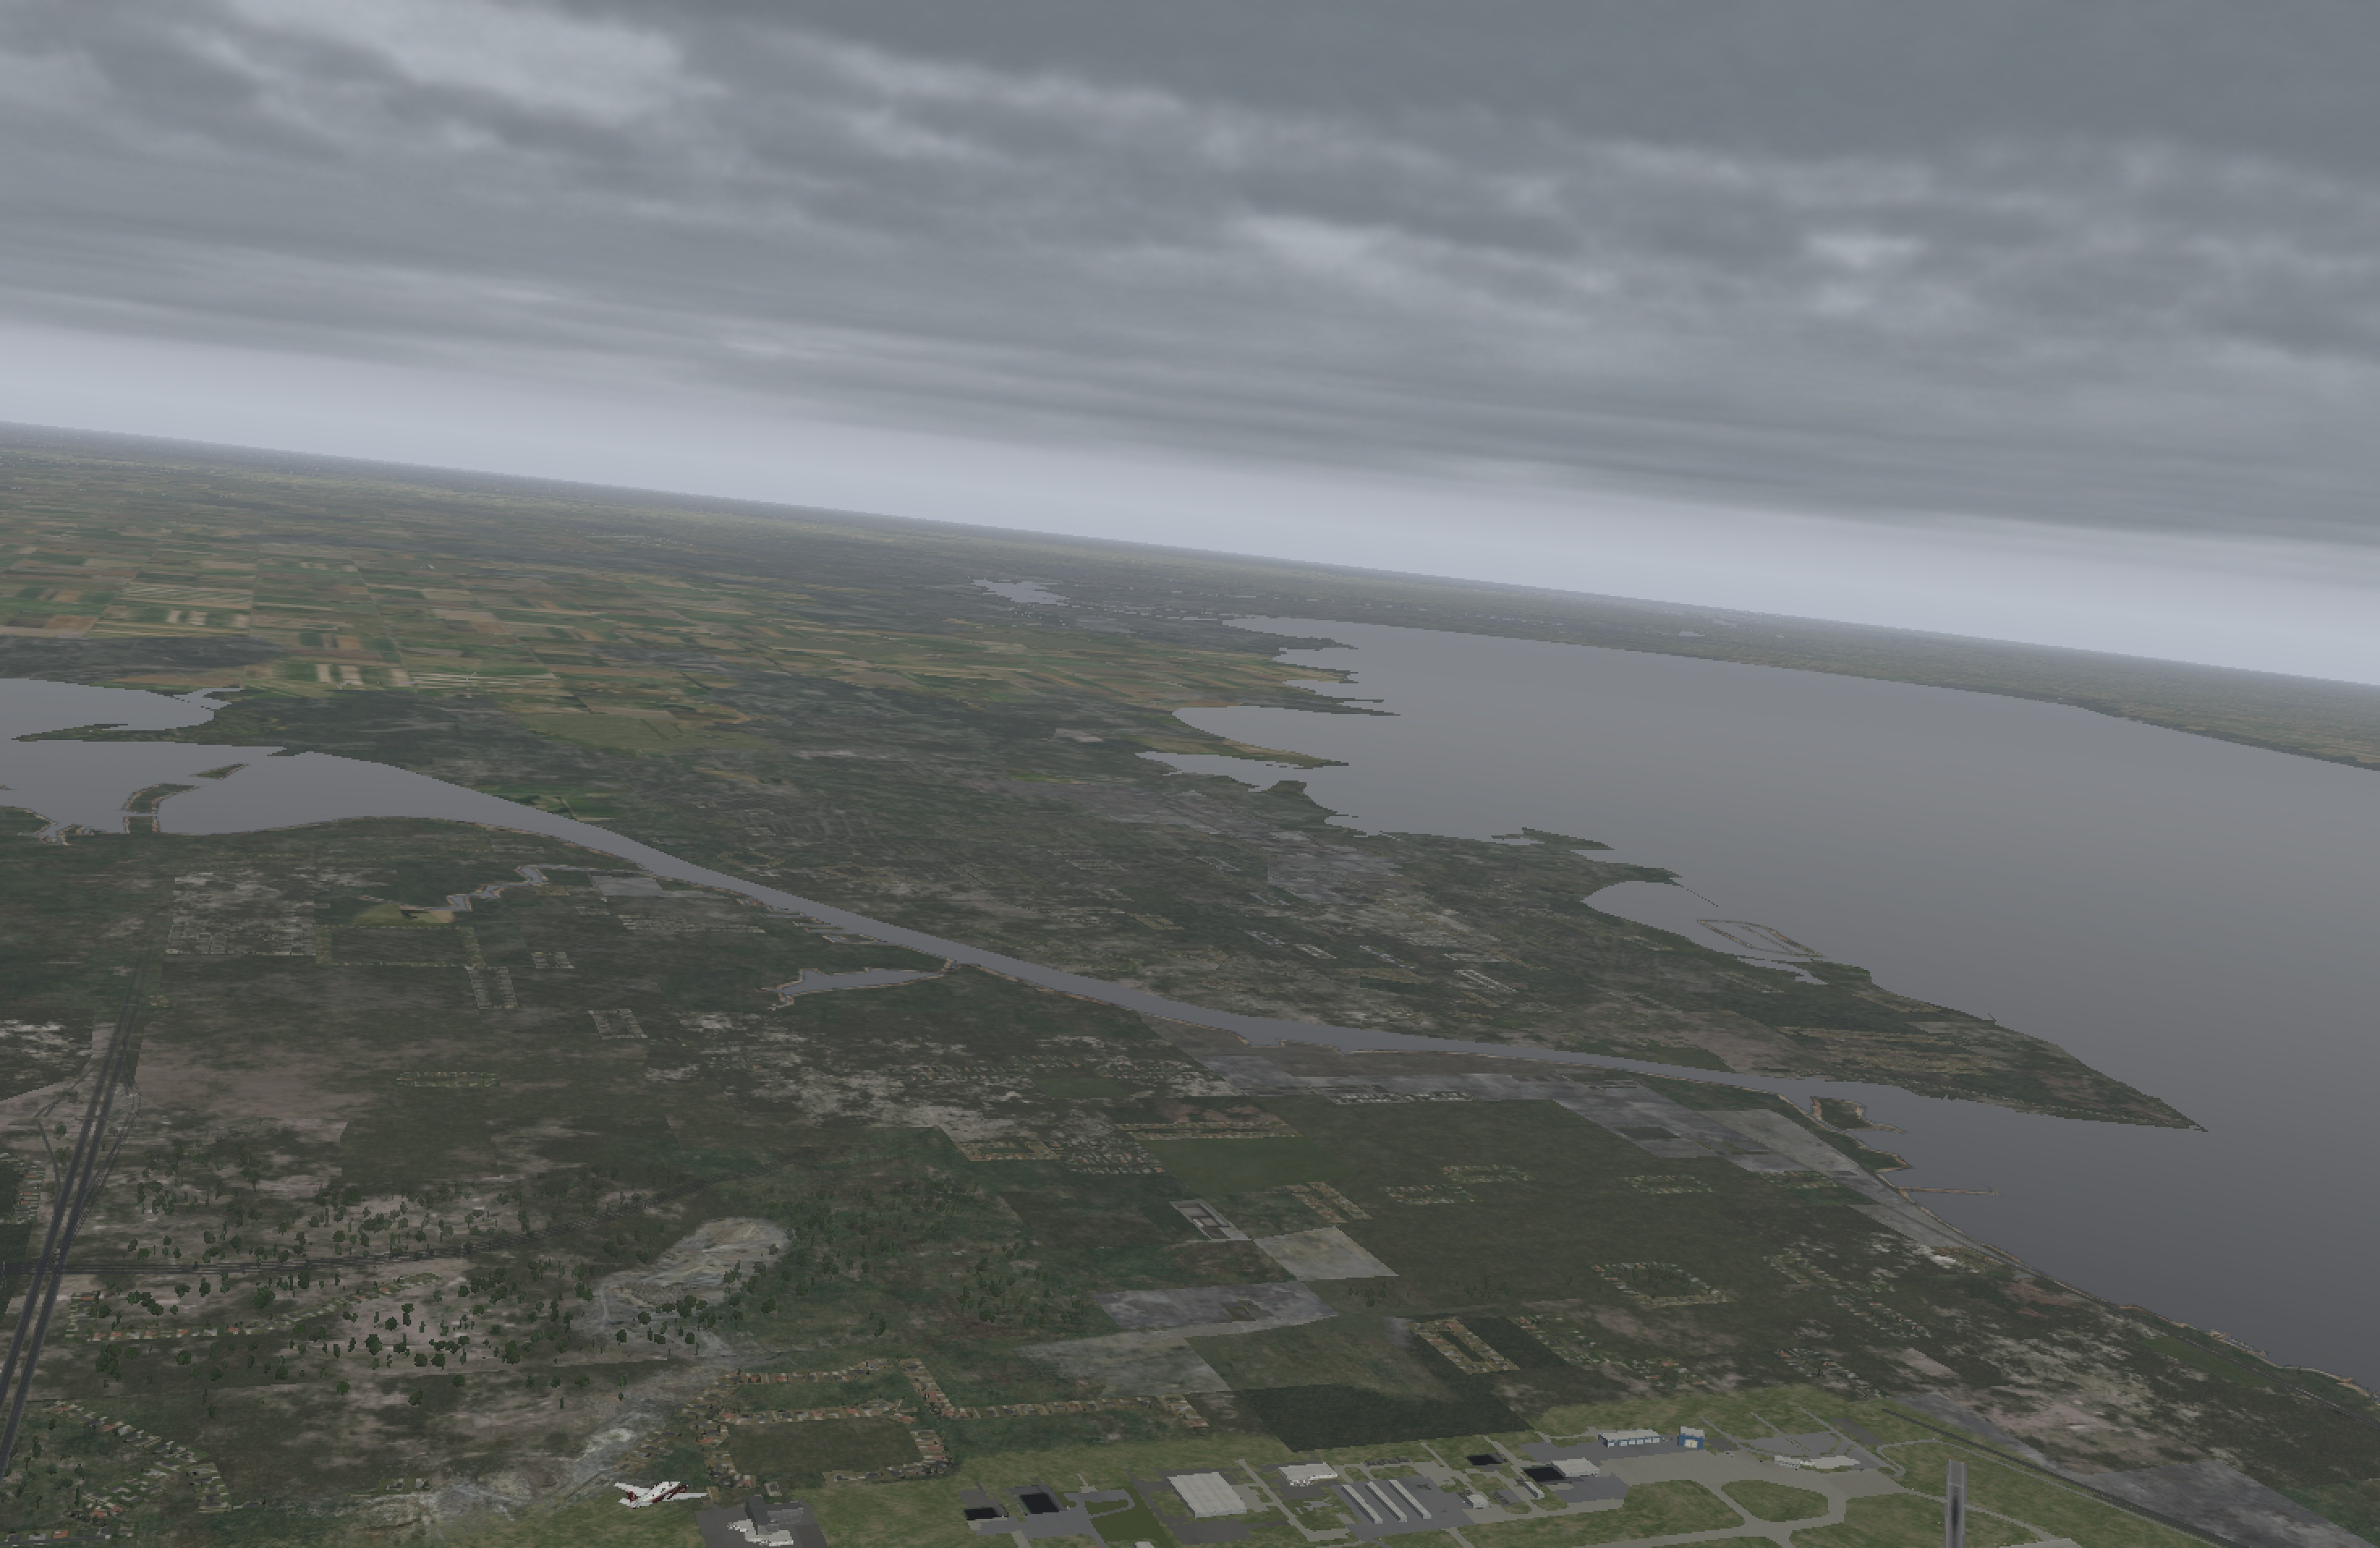aircraft: (611, 1475, 716, 1515)
